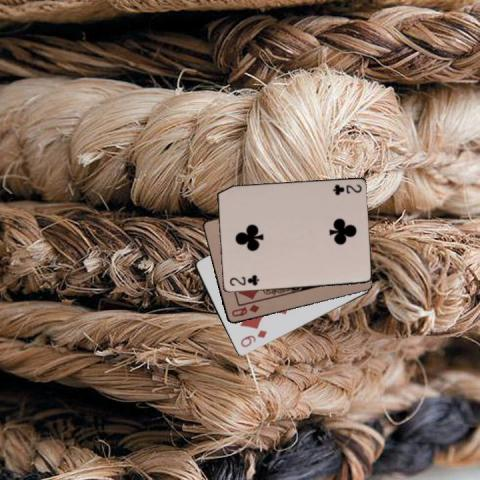2c: (227, 272, 260, 287), (330, 181, 363, 196)
9d: (237, 327, 268, 349)
Qd: (228, 301, 260, 319)
